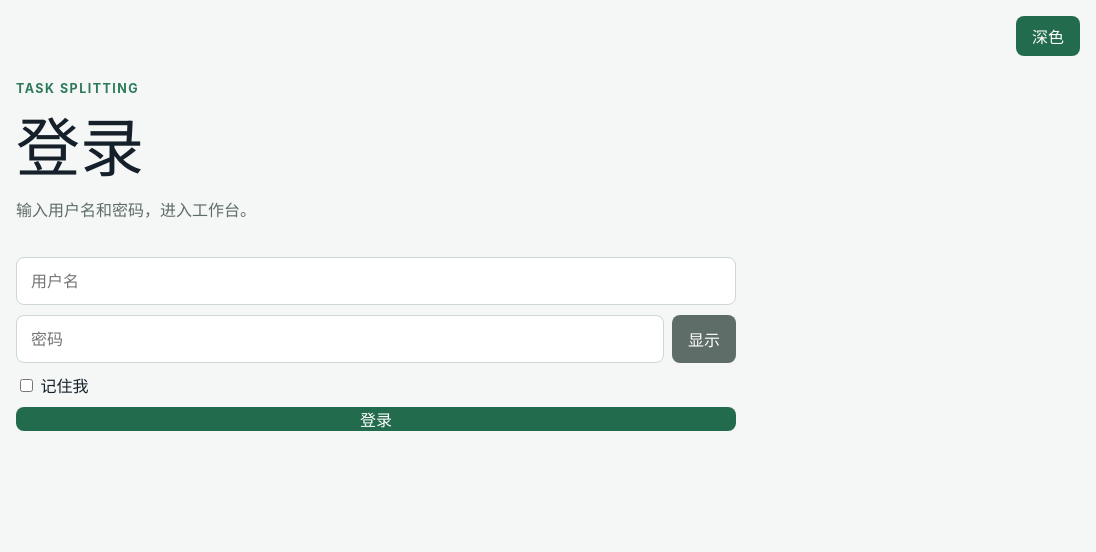
it: logout confirmation (T-UI-08) › logs out (clearing the token) when the user confirms
Type "alice" into the field with placeholder "用户名" at (376, 281), box left=16, top=257, right=736, bottom=305
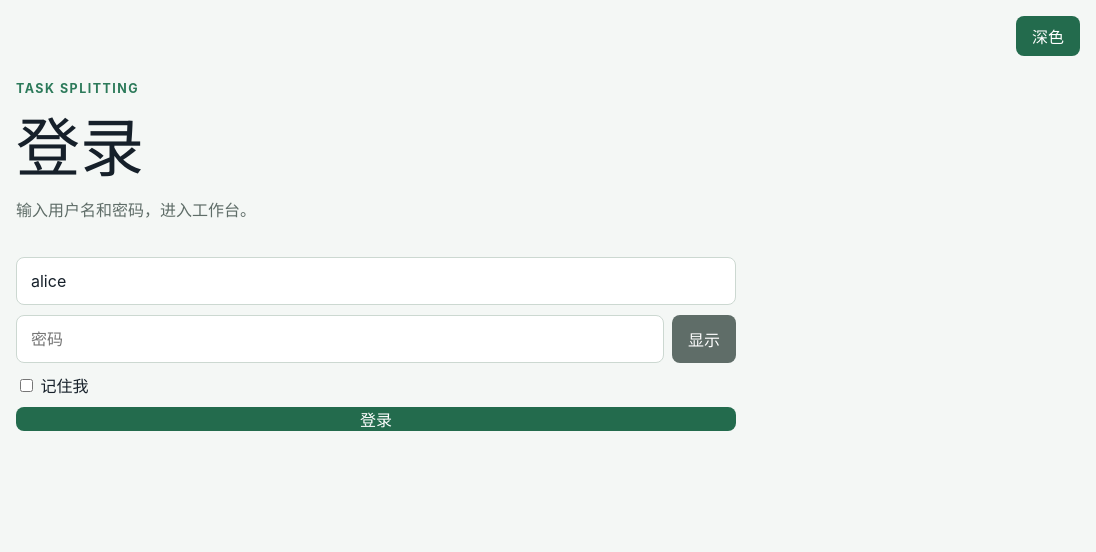
Type "secret" into the password field with placeholder "密码" at (340, 339), box left=16, top=315, right=664, bottom=363
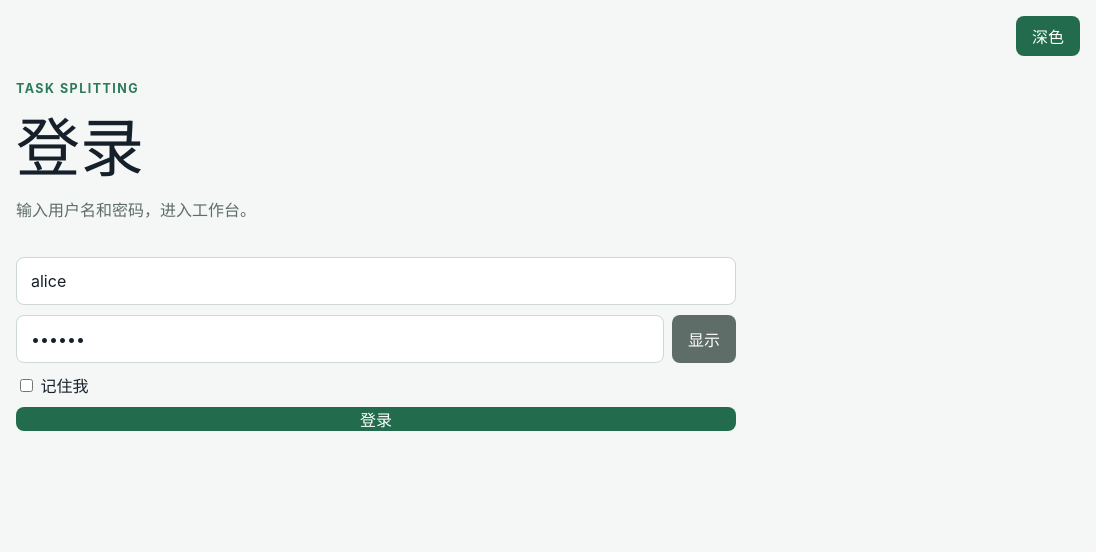
Submit the form from the button "登录", box left=16, top=407, right=736, bottom=431
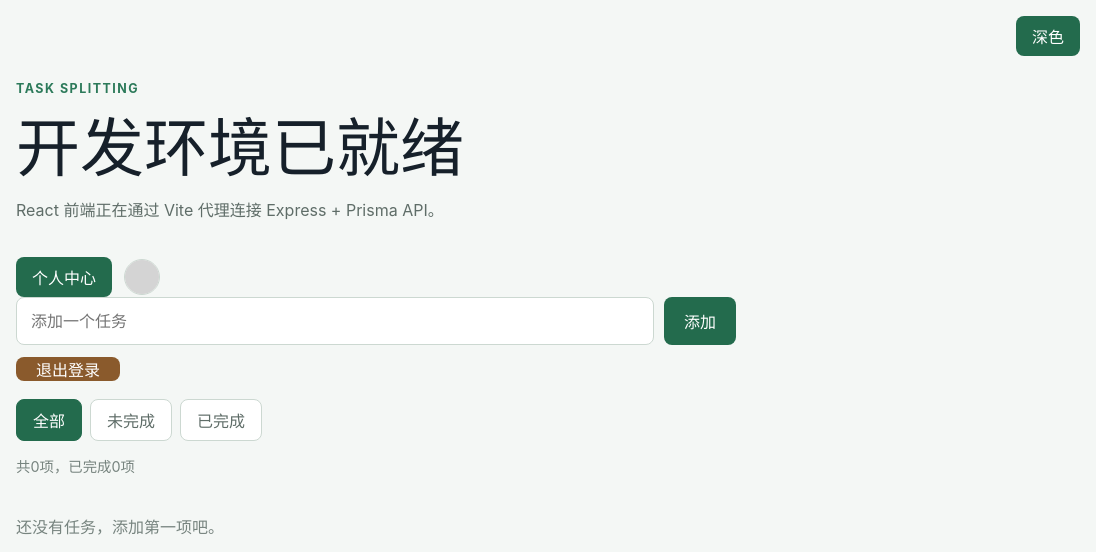
Click the button "退出登录" at (68, 369), box left=16, top=357, right=120, bottom=381
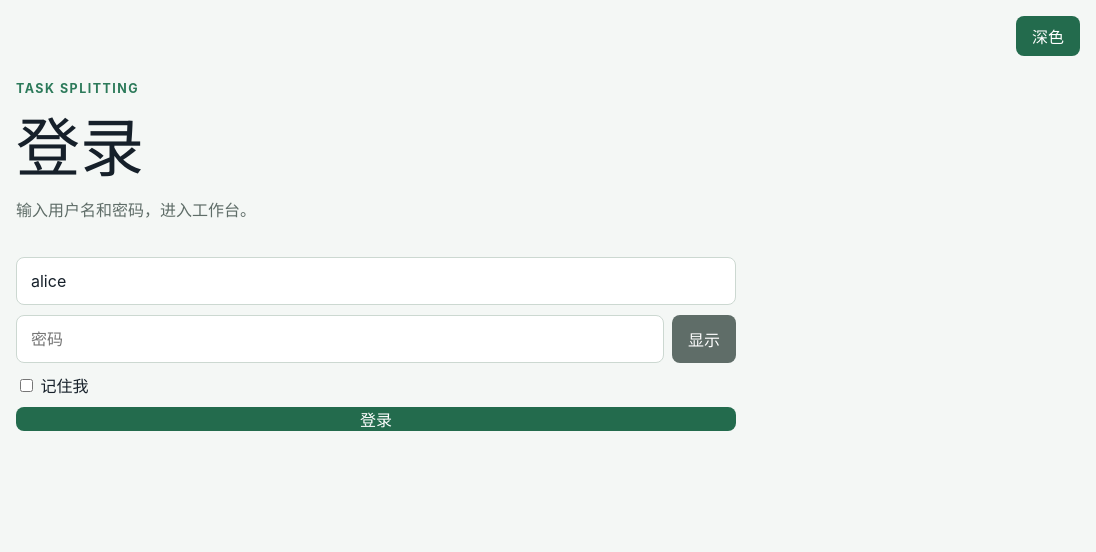
Check: the field with placeholder "用户名" is shown, box left=16, top=257, right=736, bottom=305
